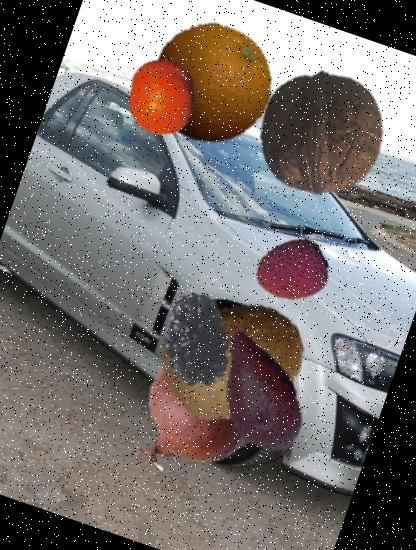Clementine: (114, 48, 211, 145)
Kiwi: (141, 270, 325, 453)
Lychee: (246, 224, 339, 318)
Mulberry: (121, 278, 256, 413)
Onion: (116, 340, 270, 494)
Orange: (132, 6, 287, 160)
Salak: (169, 307, 348, 486)
Walnut: (242, 52, 402, 214)
